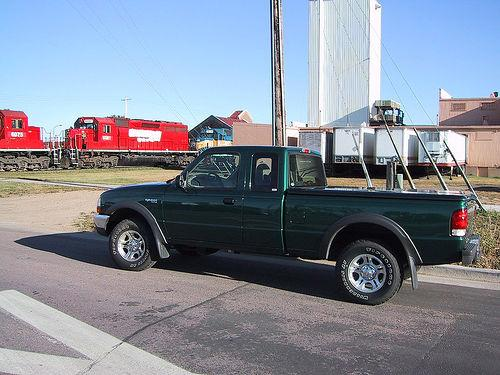truck: (93, 145, 481, 305)
